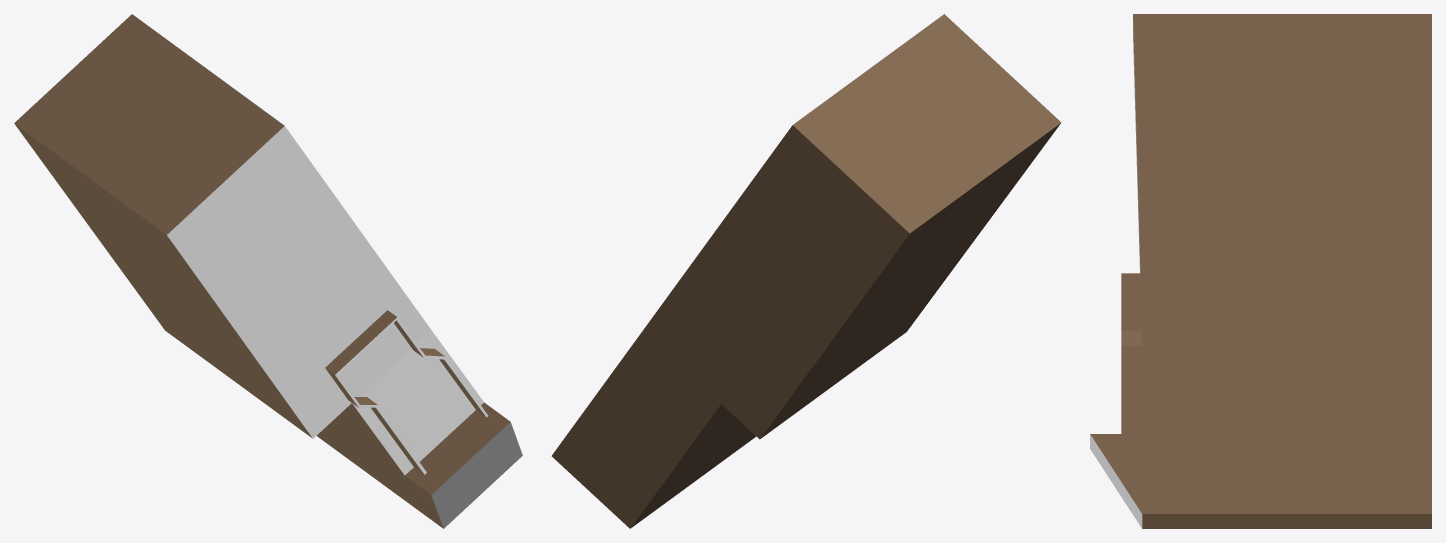
3 renders of one model, left to right at view 1: azimuth 30°, elevation 25°; view 2: azimuth 150°, elevation 25°; view 3: azimuth 270°, elevation 25°, orthographic. The views are drawn at different scales.
Visible parts, largest first — view 1: City_PC-01190; view 2: City_PC-01190; view 3: City_PC-01190.
Part boxes in pixels (x1,y1,x2,y2): City_PC-01190: [14, 14, 522, 528]; City_PC-01190: [551, 14, 1061, 528]; City_PC-01190: [1090, 14, 1431, 528].
Bounding box in the file's own units: 1890 × 2235 × 1584.
